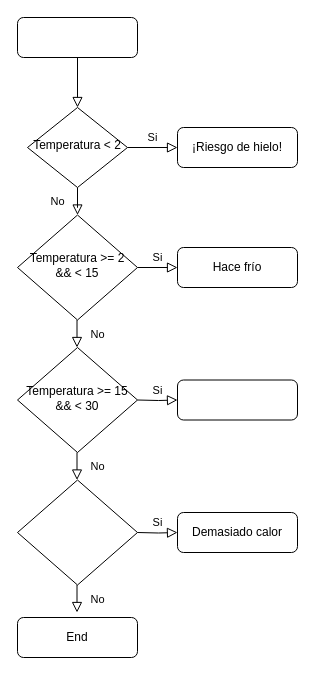
The diagram is 315 pixels wide and 675 high, and some of its shapes have lost their labels. The shapes that lost their labels are listed below. From the top down, each one's centre as x and y in pixels, then its label:
At pixel 77 37: "Introduce la temperatura".
At pixel 237 399: "Buena temperatura".
At pixel 77 532: "Temperatura >= 30".
